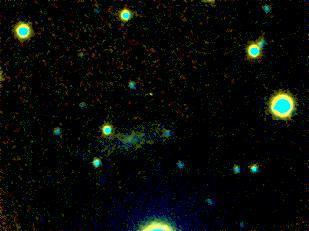star: (136, 77, 166, 107)
